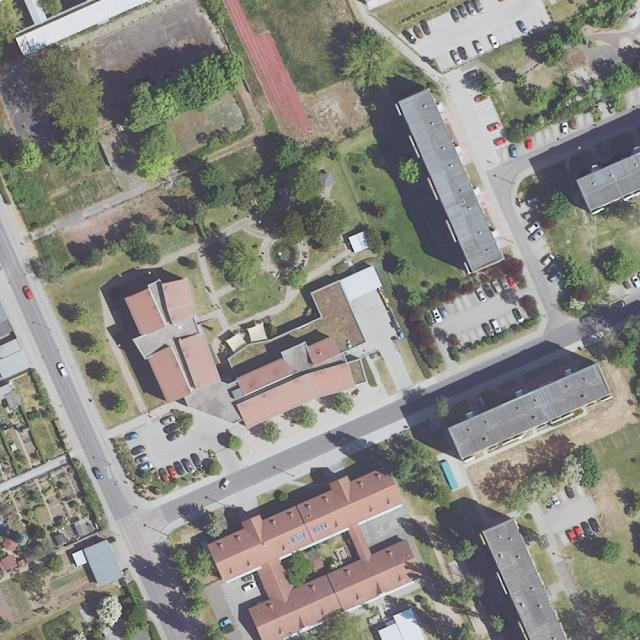ST: (290, 530, 308, 544), (311, 521, 329, 534)
